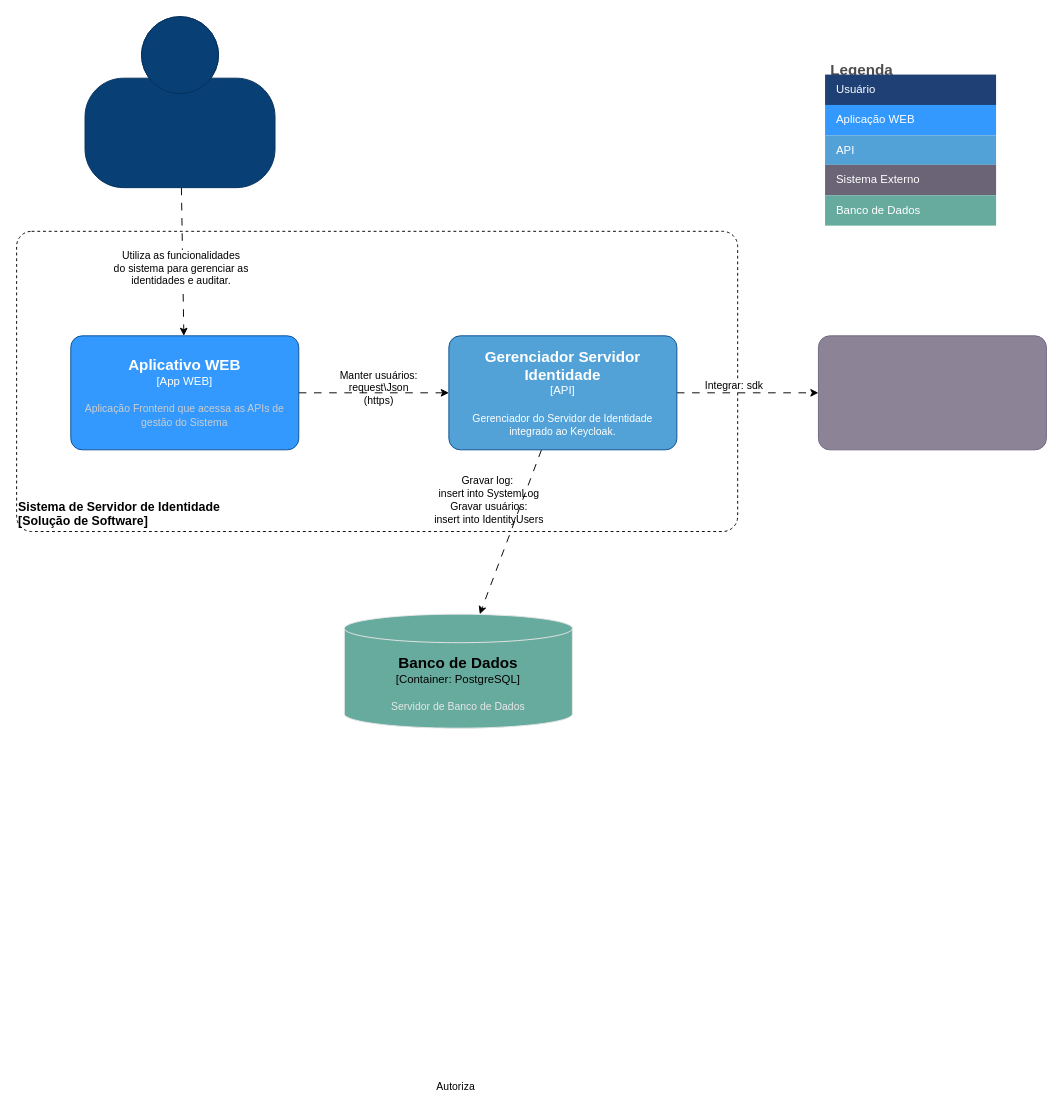
Image size: 1063x1109. Some labels were removed from this diagram. The centre of each missing label's shape, as x and y in pixels:
"Keycloak [Sistema Externo] Servidor de Identidade" belongs at pixel 931 392.
"Security Manager [Usuário] Mantem e Audita os mecanismos de segurança." belongs at pixel 179 102.
